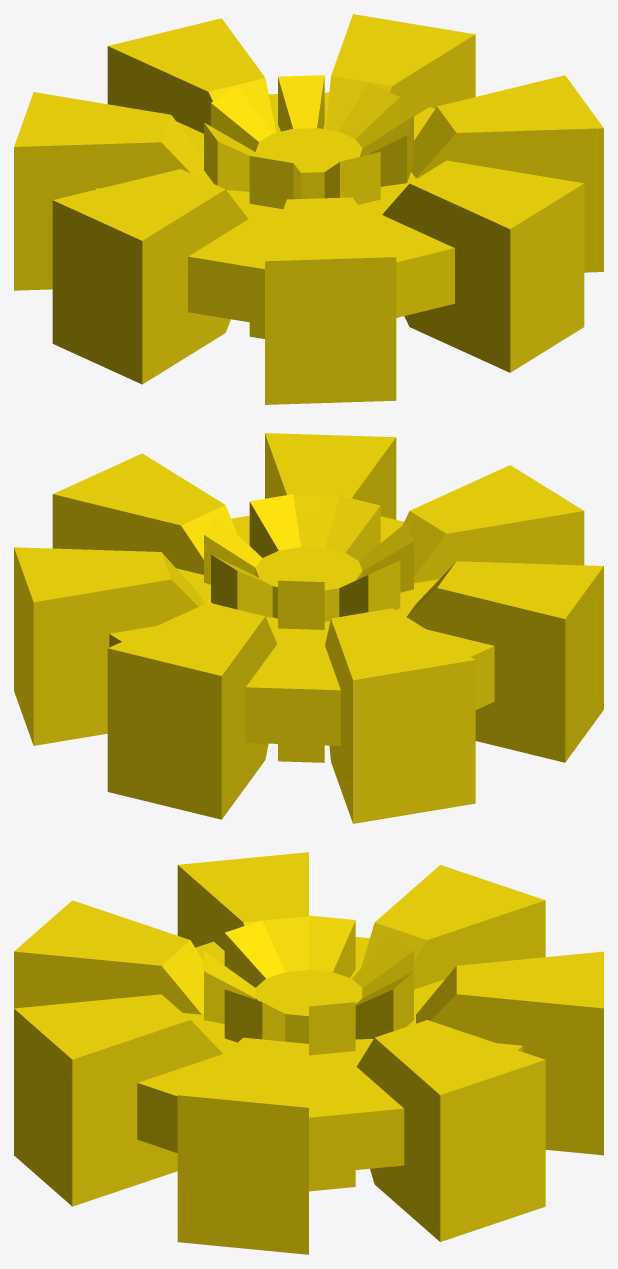
The model's file is gear_1.fbx.
3 renders of one model, top to bottom at view 1: azimuth 30°, elevation 25°; view 2: azimuth 150°, elevation 25°; view 3: azimuth 270°, elevation 25°, orthographic. The views are drawn at different scales.
Parts seen in each view (by area): view 1: Engrenage_2; view 2: Engrenage_2; view 3: Engrenage_2.
Boxes of the visible parts, box(x1,y1,x2,y2) form: Engrenage_2: box(14, 14, 603, 404); Engrenage_2: box(14, 433, 603, 823); Engrenage_2: box(14, 852, 603, 1254).
Size of the model in its own units: 1.54 by 0.518 by 1.5.
